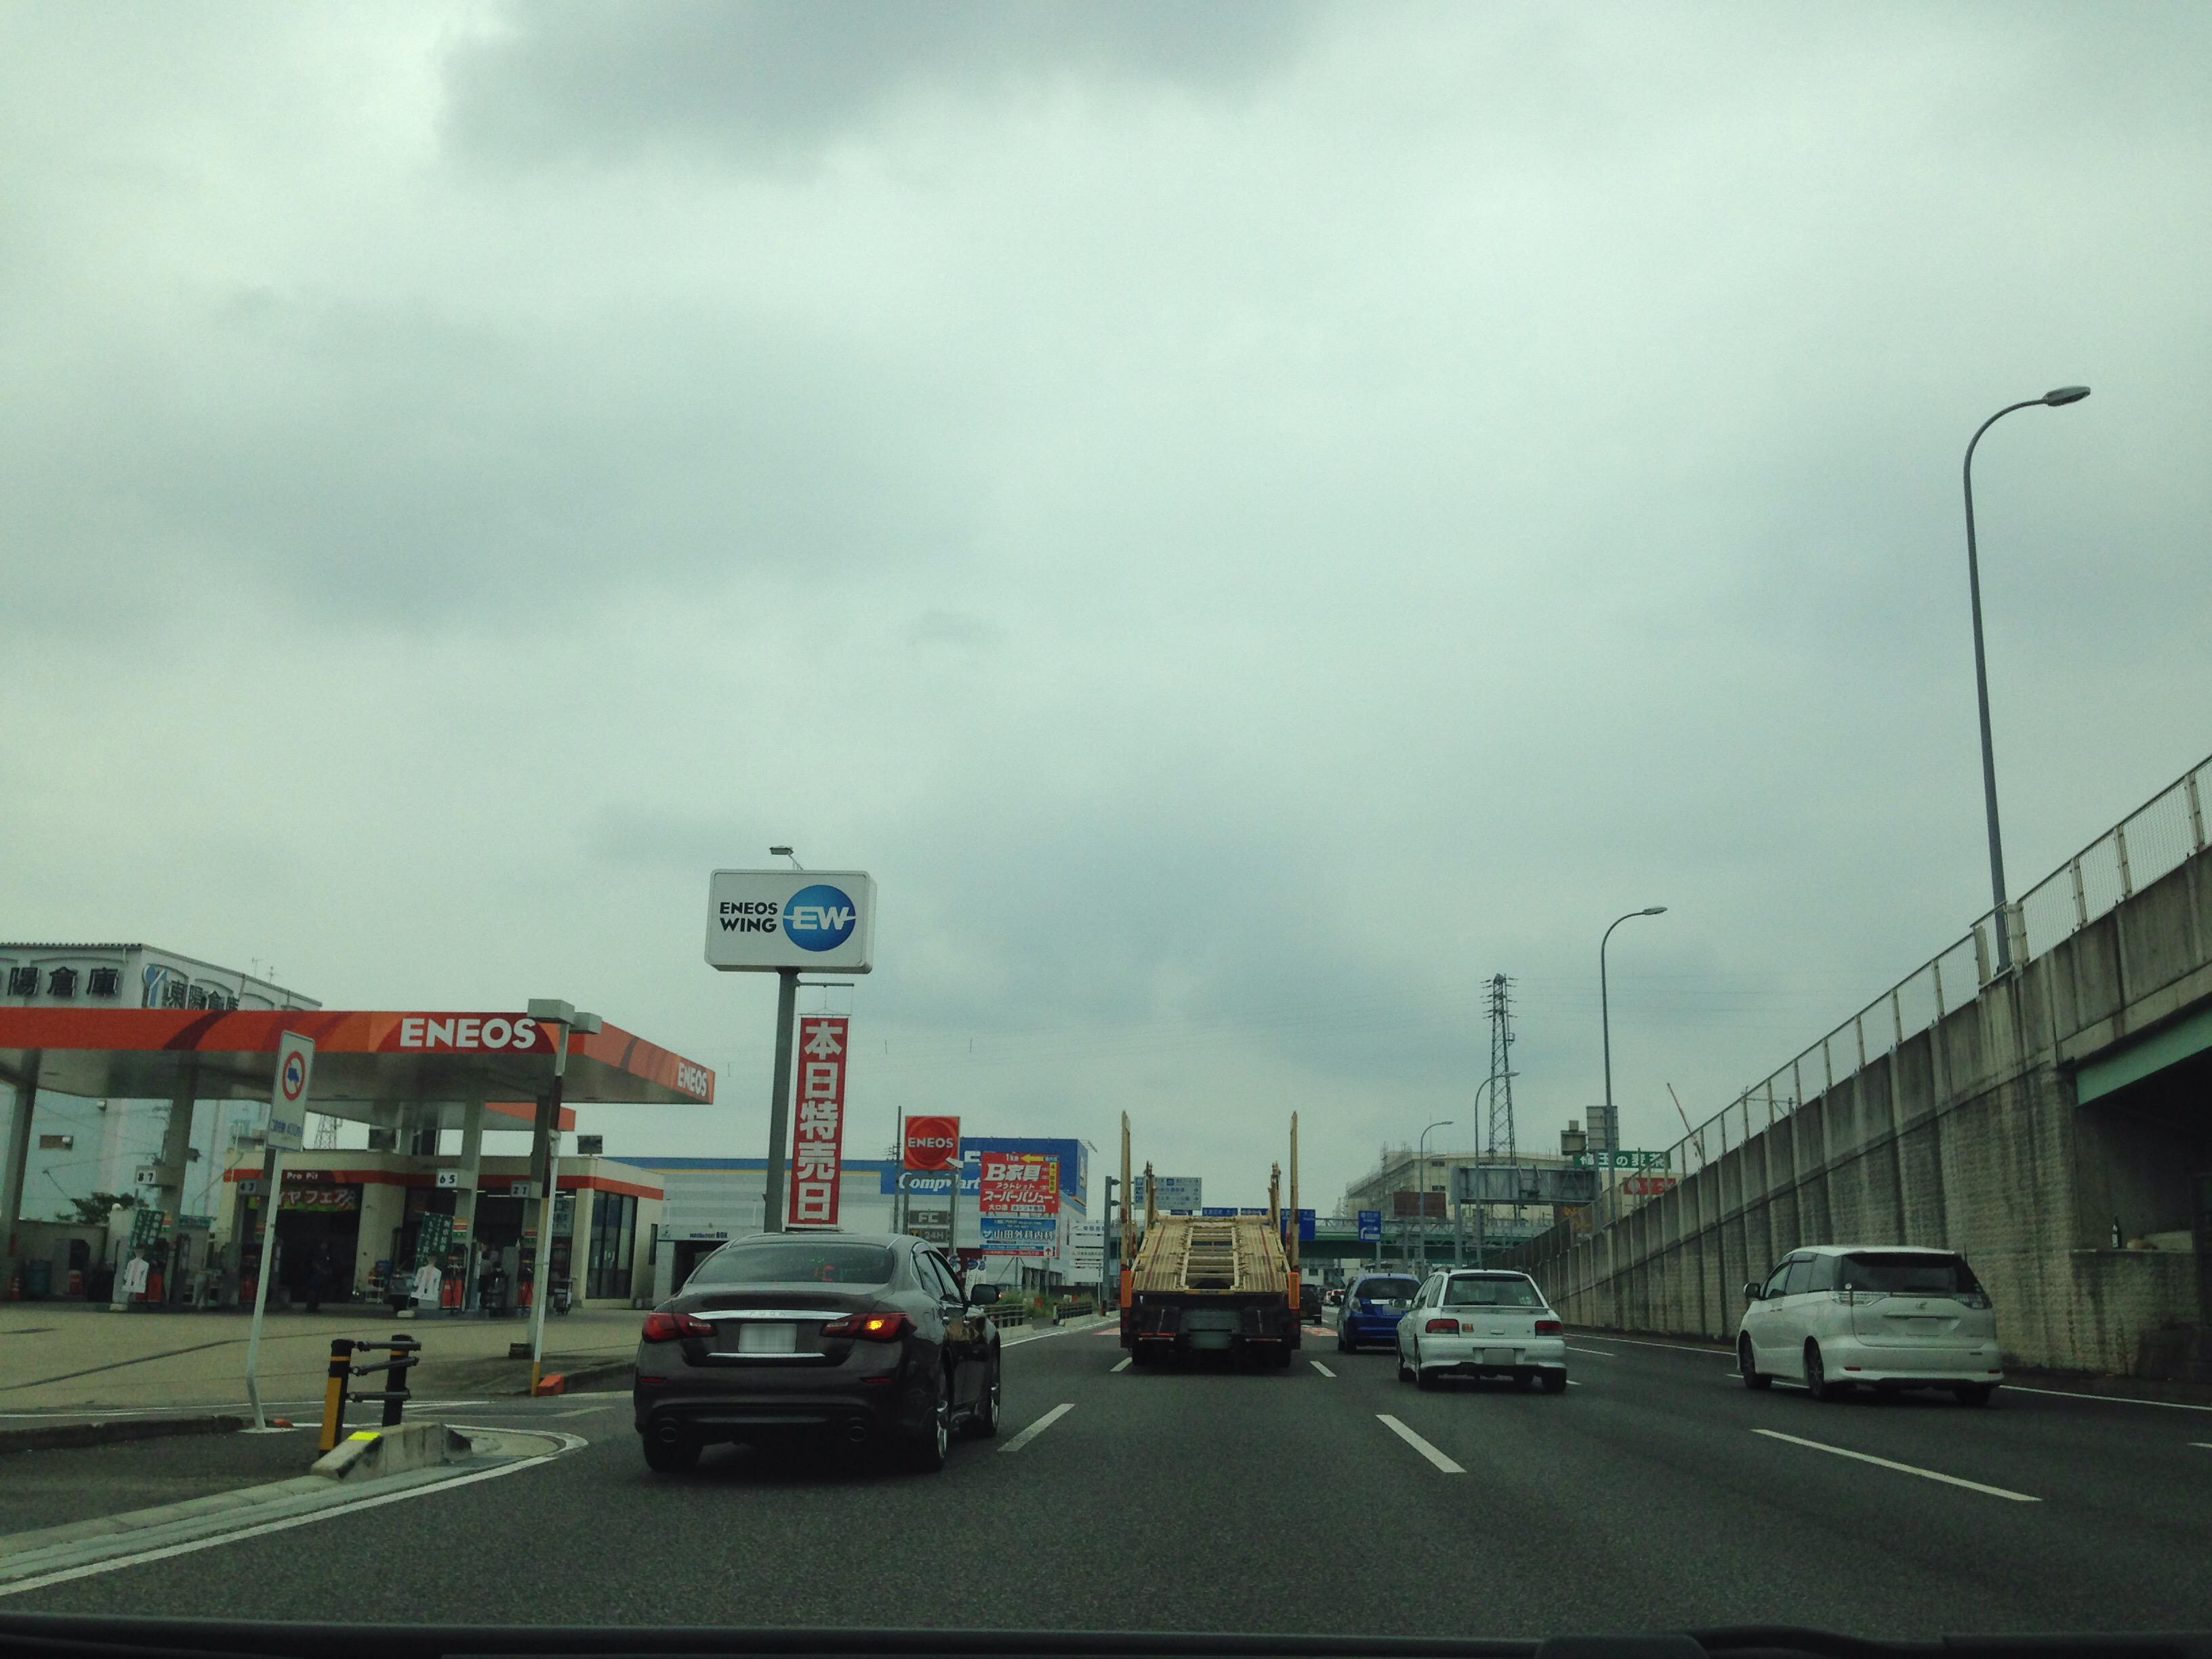vinyl banner: (796, 1000, 855, 1243)
